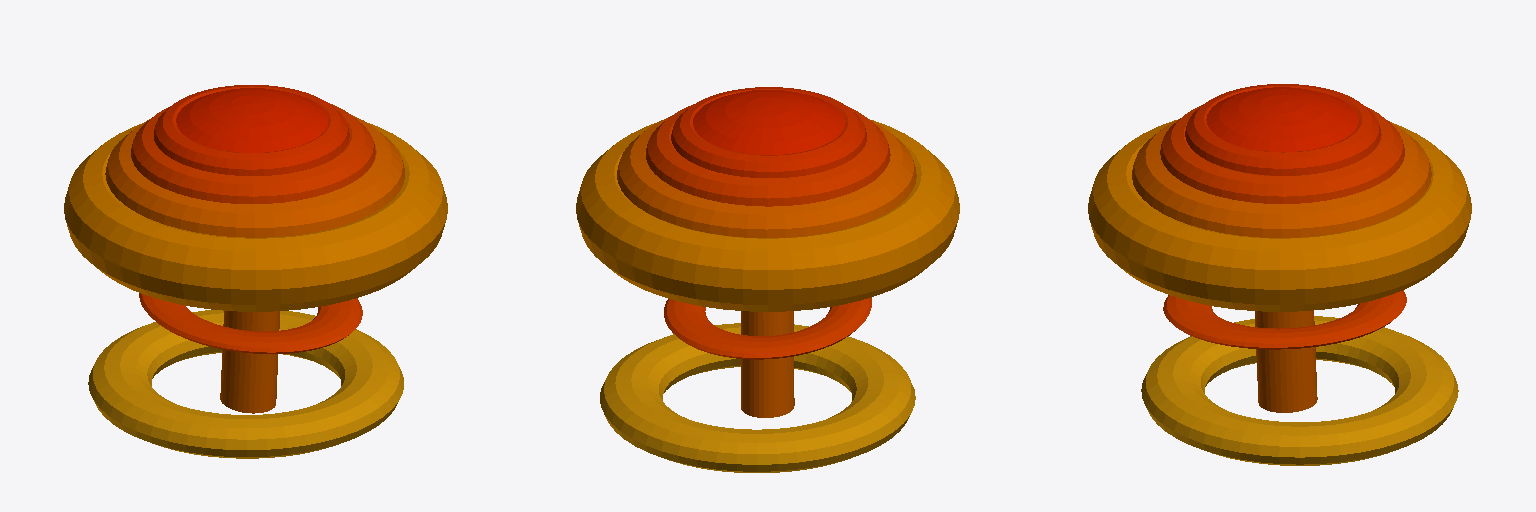
The model's file is andrej_sacharow.obj.
3 views of the same model, side by side, from view 1: azimuth 30°, elevation 25°; view 2: azimuth 150°, elevation 25°; view 3: azimuth 270°, elevation 25° (orthographic).
Visible parts, largest first — view 1: Torus, Torus.008, Torus.001, Torus.002, Sphere, Torus.003, Torus.007, Cylinder.001; view 2: Torus, Torus.008, Torus.001, Torus.002, Sphere, Torus.003, Torus.007, Cylinder.001; view 3: Torus, Torus.008, Torus.001, Torus.002, Sphere, Torus.003, Torus.007, Cylinder.001.
Boxes of the visible parts, x1,y1,x2,y2 form: Torus: [64, 123, 447, 311]; Torus.008: [88, 310, 403, 458]; Torus.001: [105, 115, 404, 237]; Torus.002: [131, 102, 375, 203]; Sphere: [176, 88, 339, 153]; Torus.003: [154, 85, 349, 175]; Torus.007: [139, 293, 362, 353]; Cylinder.001: [220, 311, 279, 413]; Torus: [576, 120, 959, 311]; Torus.008: [600, 323, 915, 472]; Torus.001: [617, 116, 916, 237]; Torus.002: [646, 104, 890, 206]; Sphere: [693, 90, 844, 154]; Torus.003: [671, 87, 866, 177]; Torus.007: [664, 297, 871, 359]; Cylinder.001: [741, 311, 794, 417]; Torus: [1088, 120, 1471, 311]; Torus.008: [1141, 316, 1458, 465]; Torus.001: [1132, 119, 1431, 237]; Torus.002: [1160, 104, 1404, 203]; Sphere: [1206, 87, 1358, 151]; Torus.003: [1185, 84, 1380, 175]; Torus.007: [1163, 290, 1406, 349]; Cylinder.001: [1255, 310, 1317, 412].
Size of the model in its own units: 10.72 by 9.36 by 10.72.